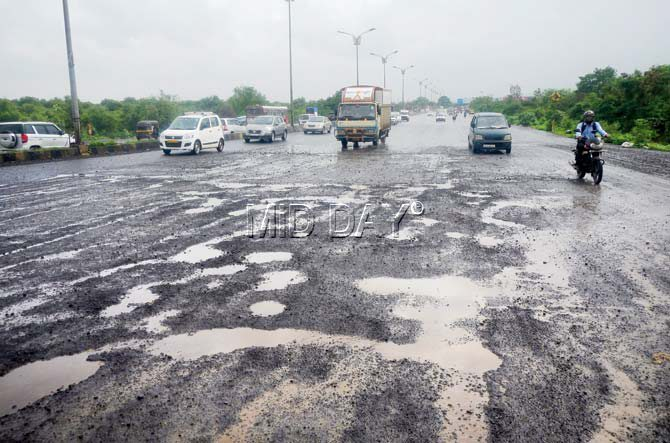pothole: (364, 258, 515, 420), (158, 315, 338, 381), (11, 309, 108, 421), (388, 162, 453, 201)
